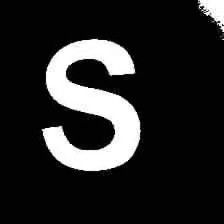LTR_S: (34, 35, 146, 173)
